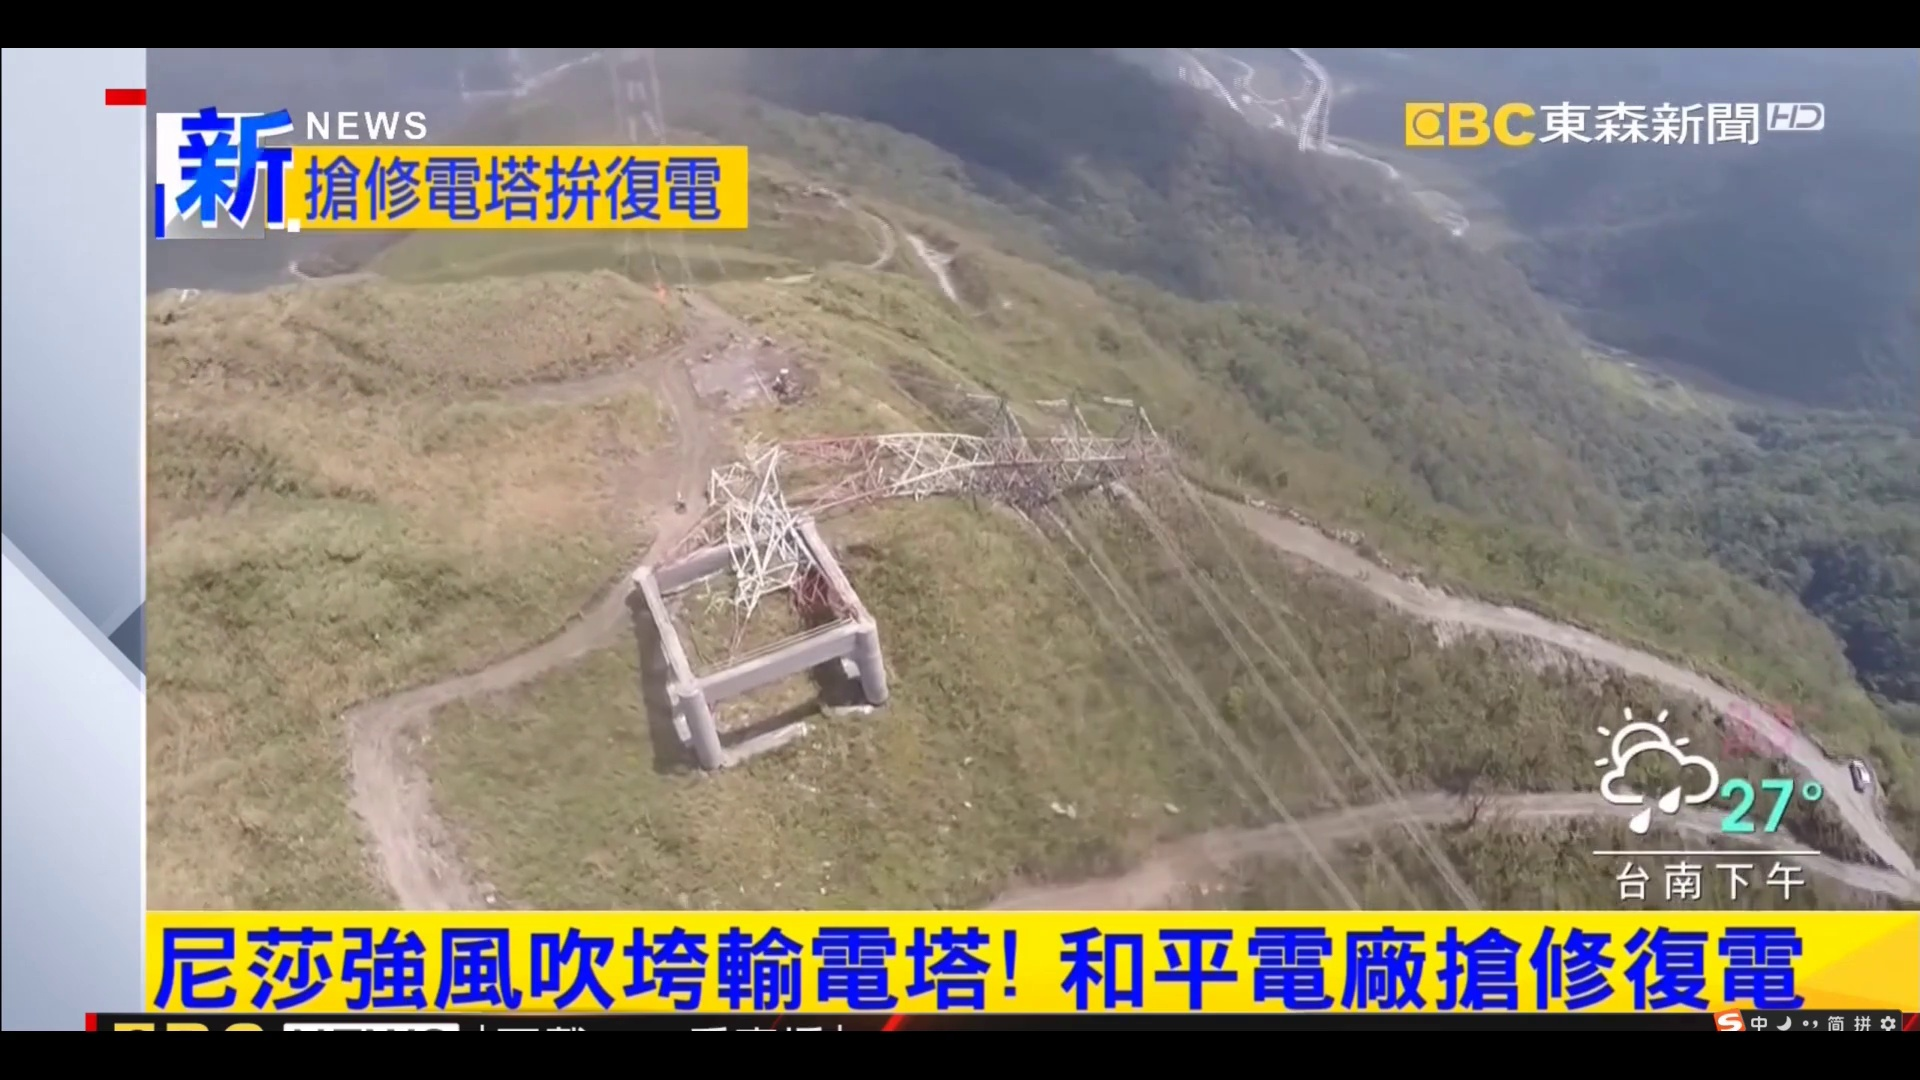tower_down: (715, 386, 1193, 595)
